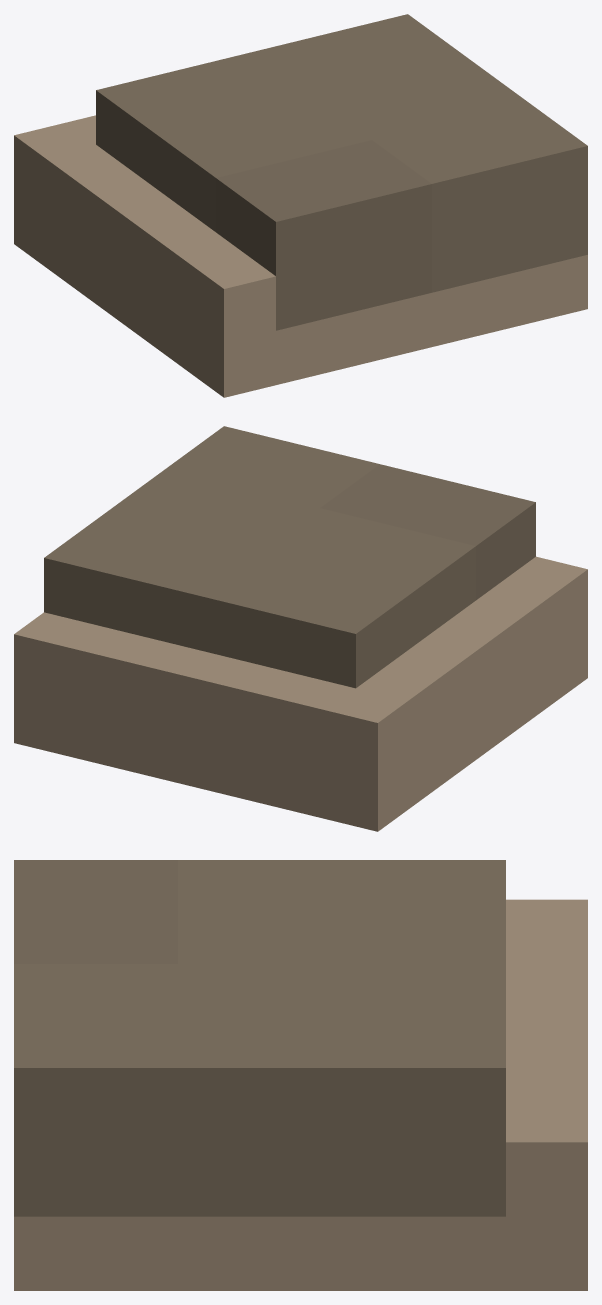
File: semillero_bandeja_desgastada_01.glb
The picture shows the model from 3 angles, top to bottom: view 1: azimuth 30°, elevation 25°; view 2: azimuth 150°, elevation 25°; view 3: azimuth 270°, elevation 25°; orthographic projection. The views are drawn at different scales.
Parts seen in each view (by area): view 1: semillero_bandeja_desgastada; view 2: semillero_bandeja_desgastada; view 3: semillero_bandeja_desgastada.
Boxes of the visible parts, x1,y1,x2,y2 form: semillero_bandeja_desgastada: (14,14,587,397); semillero_bandeja_desgastada: (14,426,587,831); semillero_bandeja_desgastada: (14,860,587,1290).
Bounding box in the file's own units: 0.7 × 0.3 × 0.7.
